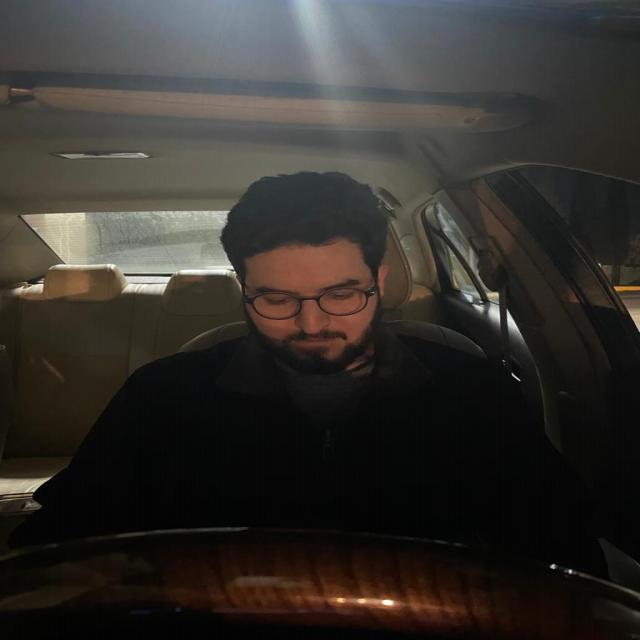person: (222, 171, 398, 376)
